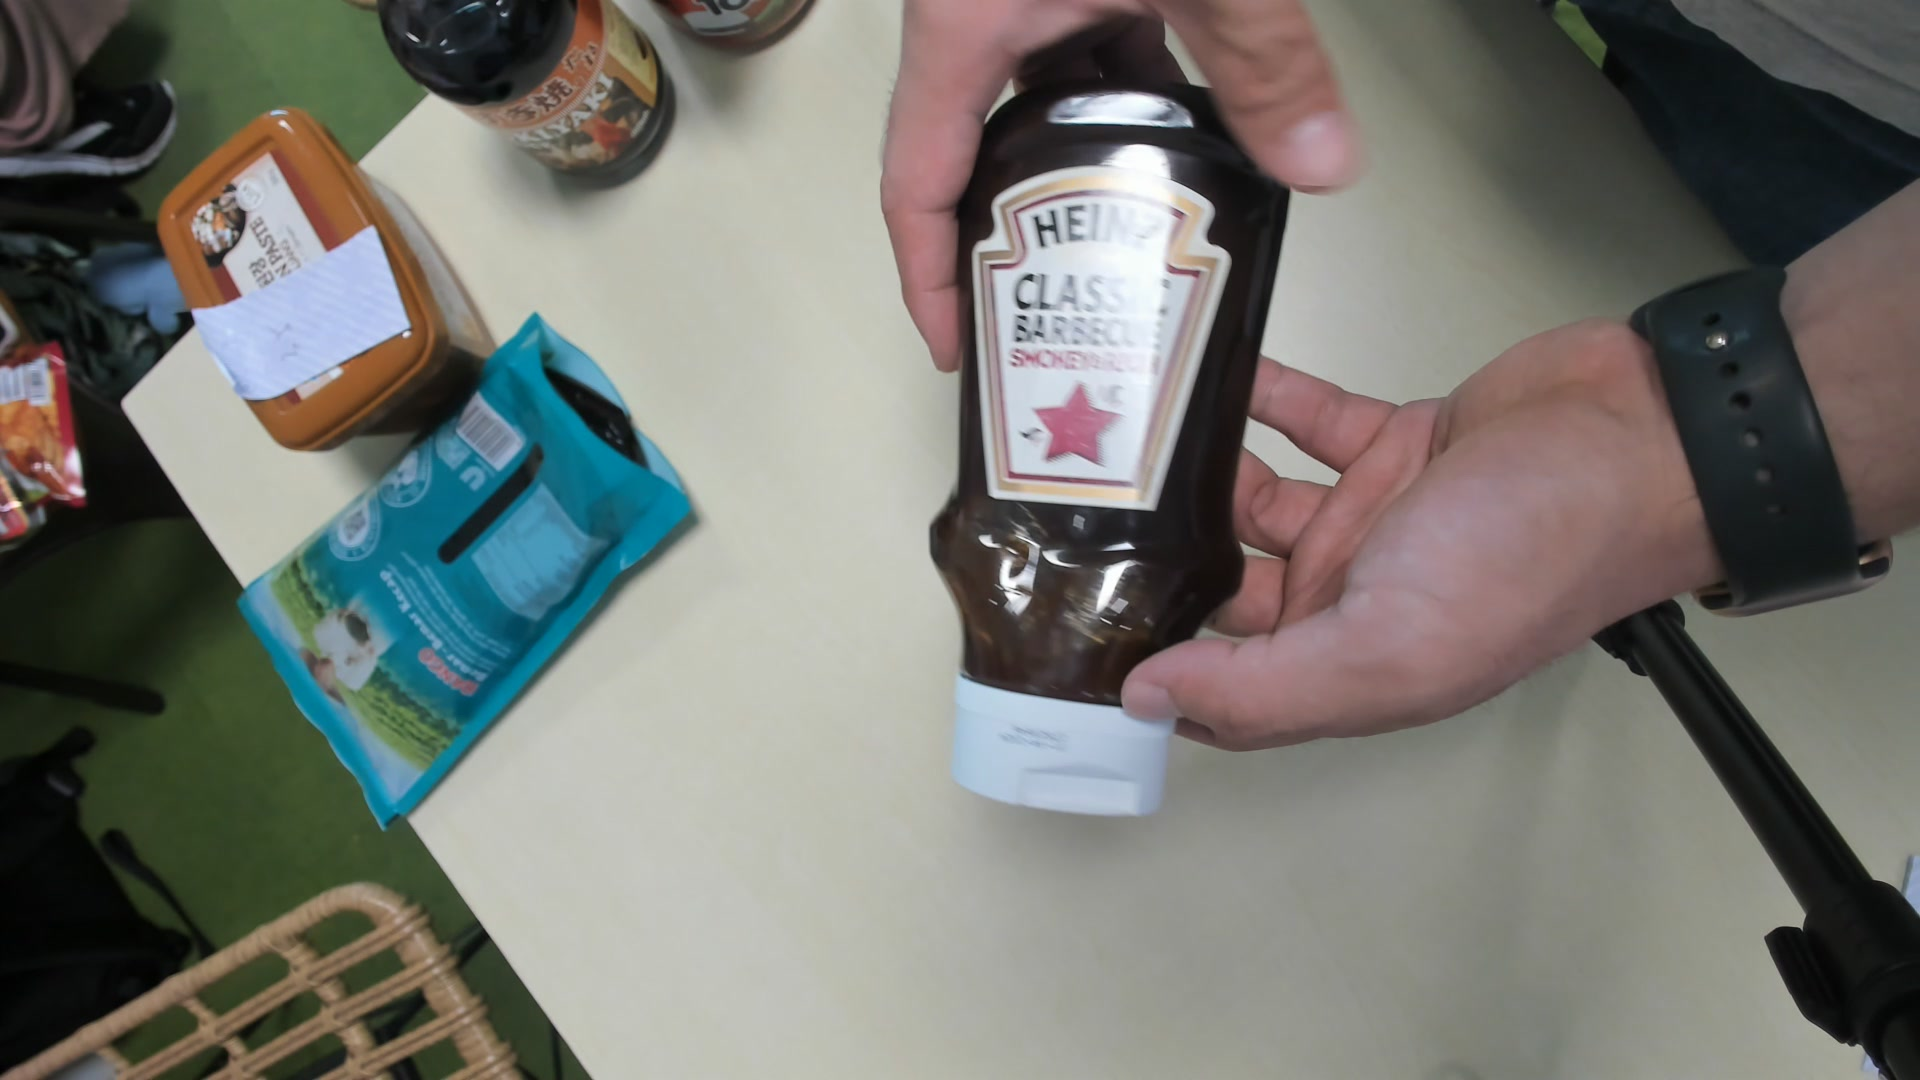OtherSauceDressing_400-499g_NonHalal_NonHealthy: (927, 75, 1298, 819)
